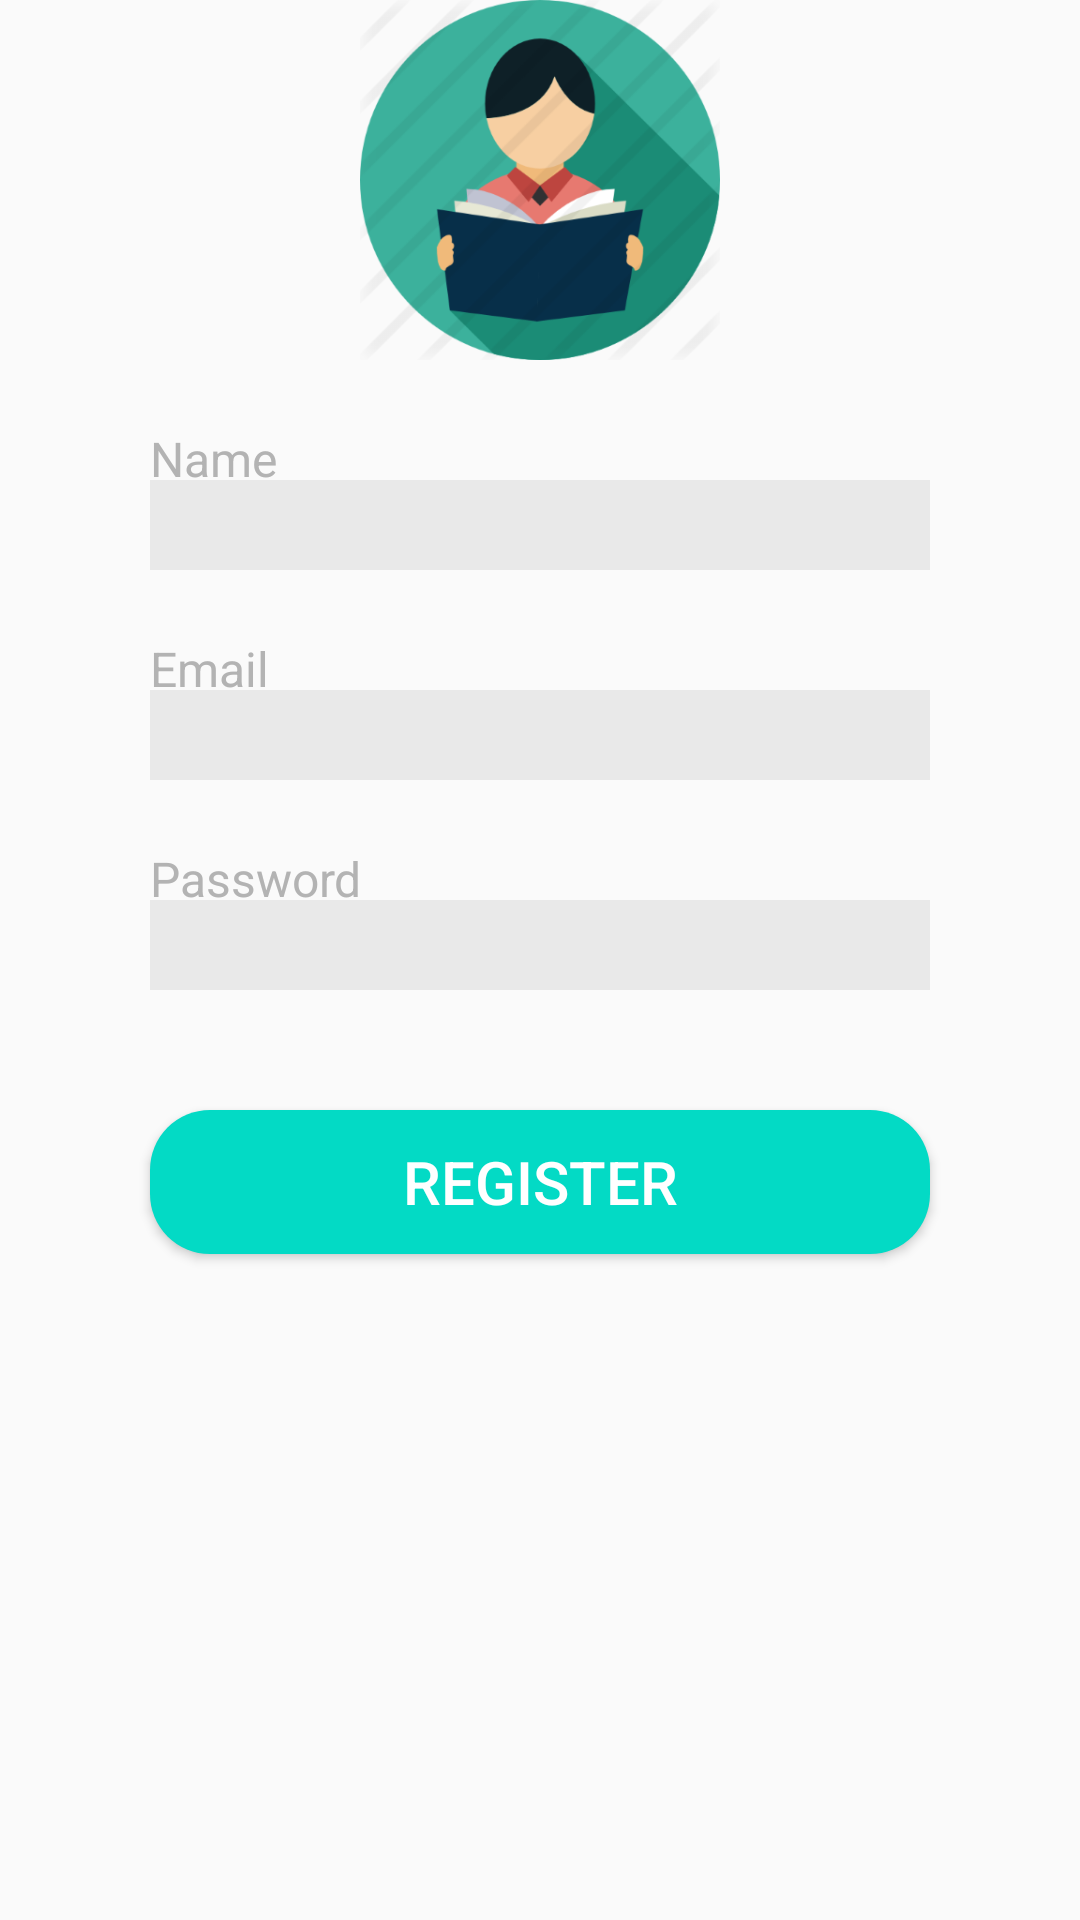

Where icons sit on this 1080×1920 app screen, as (x1, y1, x2, y2):
student: (360, 0, 720, 360)
